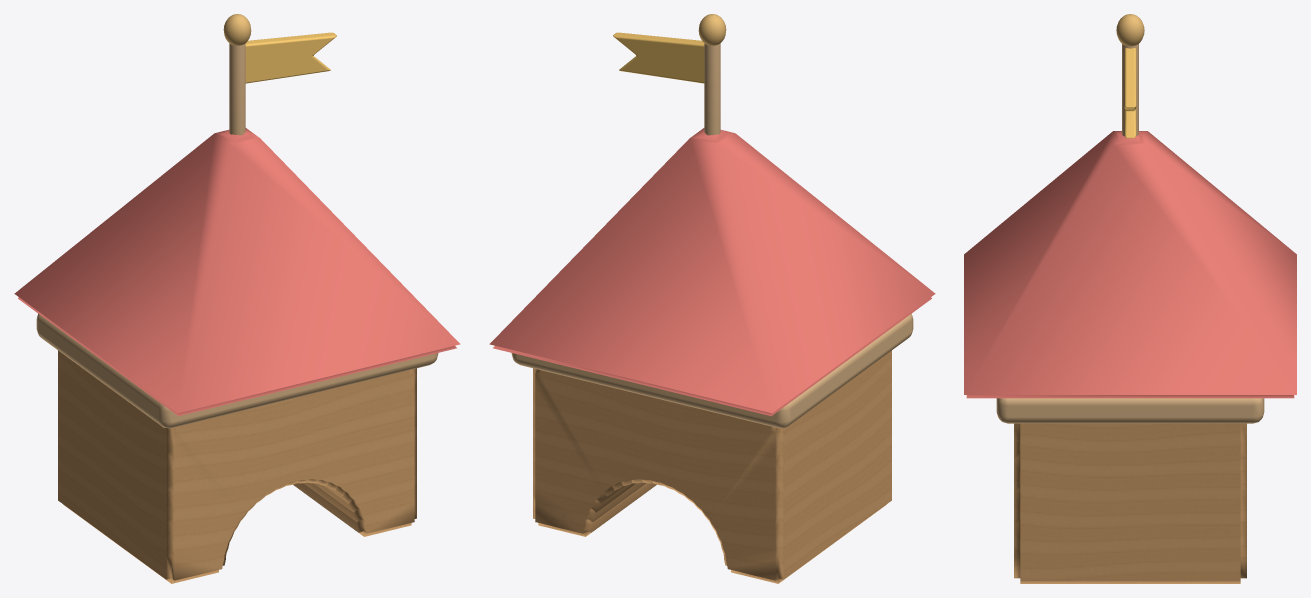
Rendered from playroom_castle_roof.glb.
3 renders of one model, left to right at view 1: azimuth 30°, elevation 25°; view 2: azimuth 150°, elevation 25°; view 3: azimuth 270°, elevation 25°, orthographic.
Parts seen in each view (by area): view 1: playroom_castle_roof; view 2: playroom_castle_roof; view 3: playroom_castle_roof.
Boxes of the visible parts, box(x1,y1,x2,y2) form: playroom_castle_roof: box(14, 14, 460, 583); playroom_castle_roof: box(489, 14, 935, 583); playroom_castle_roof: box(964, 14, 1296, 583).
Size of the model in its own units: 1.34 by 2.27 by 1.34.
Materials: 5 (1 with a texture image).
